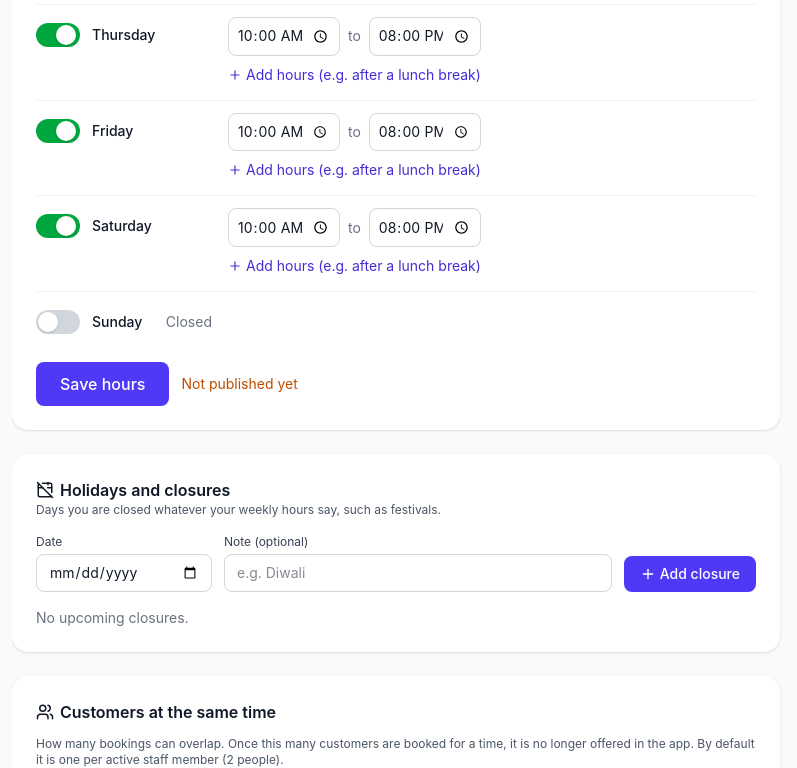
Scenario: OpeningHoursPage weekly hours › shows why the server refused the hours
(page scrolled)
What coordinates should you click on to do the following:
click the button "Save hours"
I would click on:
 (103, 384)
Its box is [36,362,170,406].
(page scrolled)
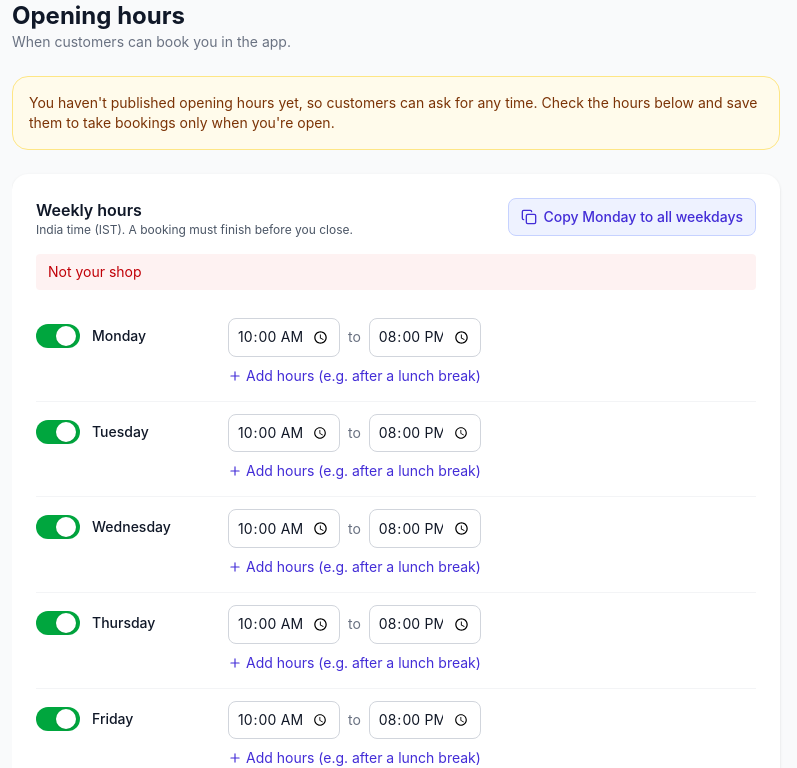
Now the message reads "Not your shop", box [48,263,142,280]
